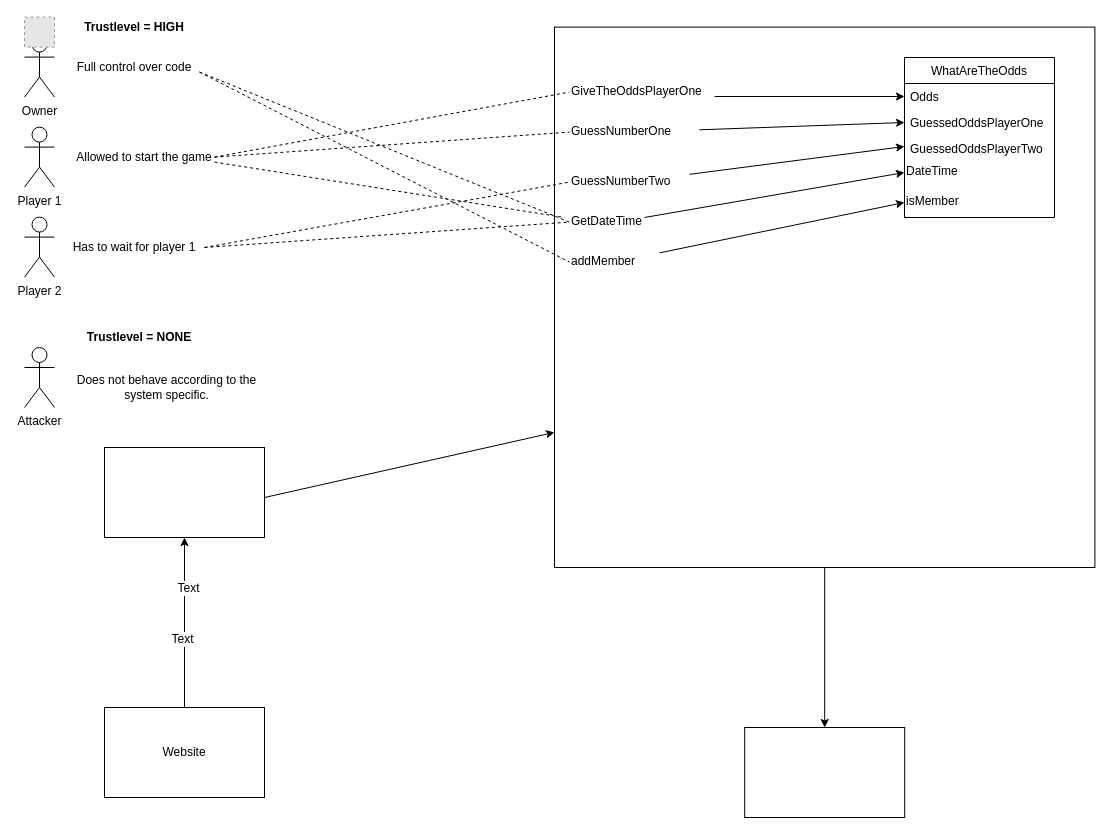
Image size: 1112x836. Some labels were removed from this diagram. Grey dashed boxes stand in for pictures. The shapes that lost their labels are listed below. From the top down, each one's centre as x and y in pixels, then its label:
At point 184,492: "Infura".
At point 824,772: "Oracle".
